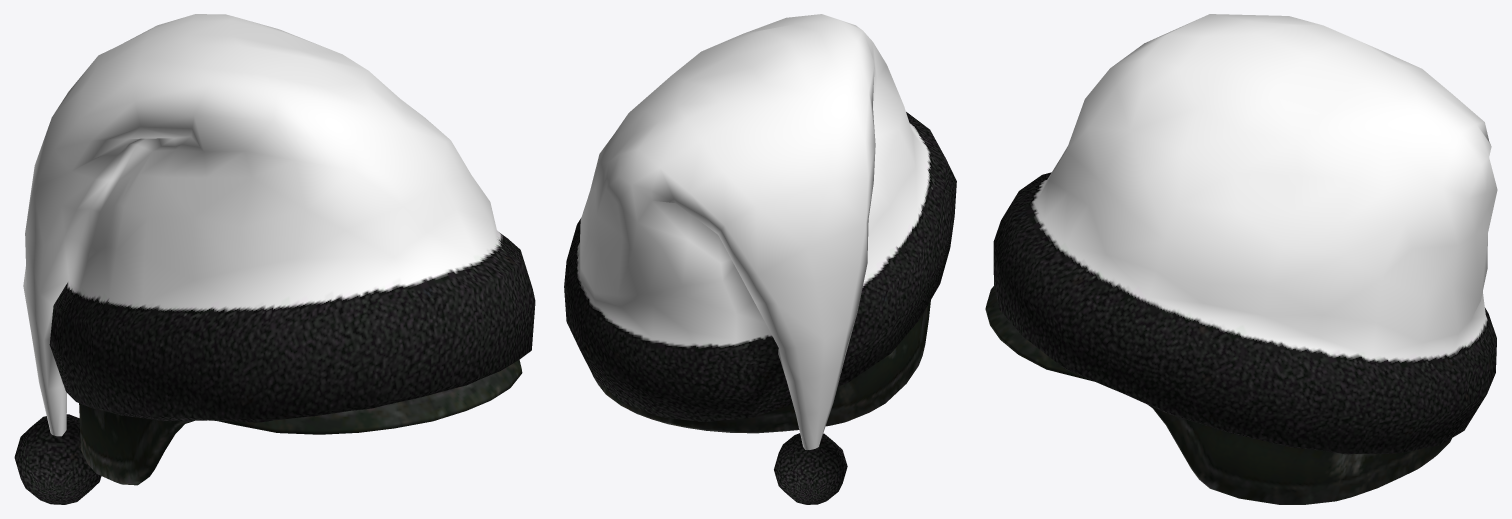
Rendered from SurvivorMale_Head_Helmet_TacticalSantaHat_LOD0.glb.
The picture shows the model from 3 angles, left to right: view 1: azimuth 30°, elevation 25°; view 2: azimuth 150°, elevation 25°; view 3: azimuth 270°, elevation 25°; orthographic projection. The views are drawn at different scales.
Visible parts, largest first — view 1: Hoodie; view 2: Hoodie; view 3: Hoodie.
Boxes of the visible parts, x1=… form: Hoodie: x1=14, y1=14, x2=535, y2=504; Hoodie: x1=564, y1=14, x2=956, y2=504; Hoodie: x1=985, y1=14, x2=1497, y2=504.
Size of the model in its own units: 0.2289 by 0.2674 by 0.2778.
Materials: 1 (1 with a texture image).
